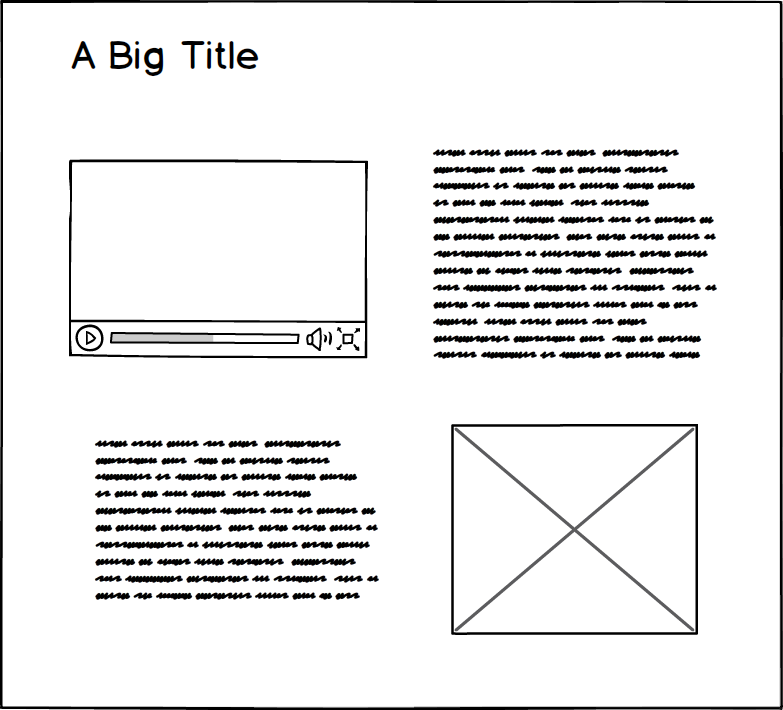h1: (61, 28, 279, 79)
image: (445, 422, 705, 643)
p: (425, 145, 724, 362), (92, 433, 389, 610)
video: (66, 148, 375, 365)
